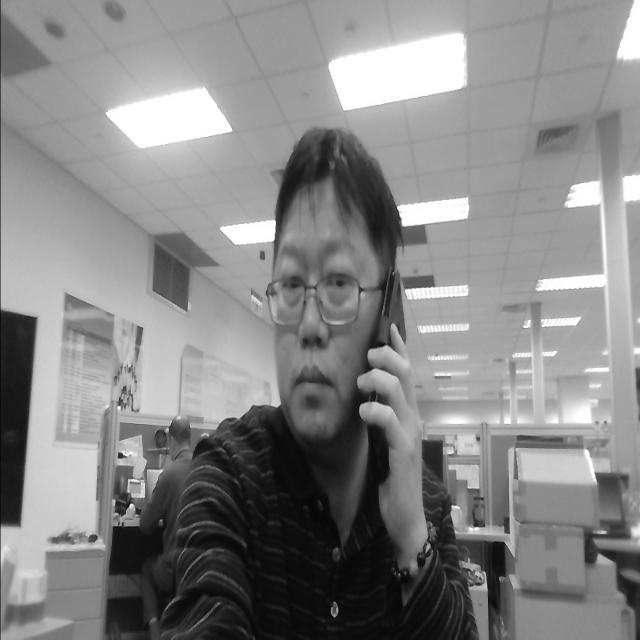phone: (348, 262, 434, 545)
